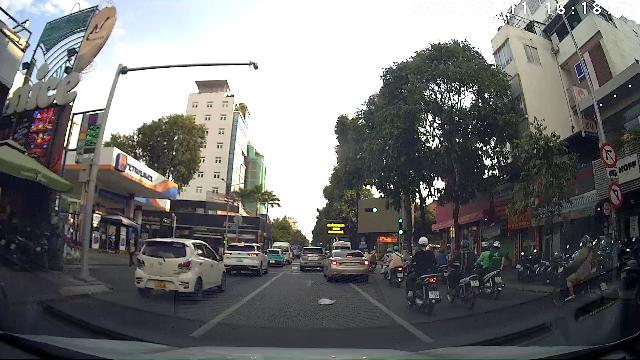123a-cam-re-trai: (608, 182, 624, 208)
123b-cam-re-phai: (599, 142, 617, 168)
